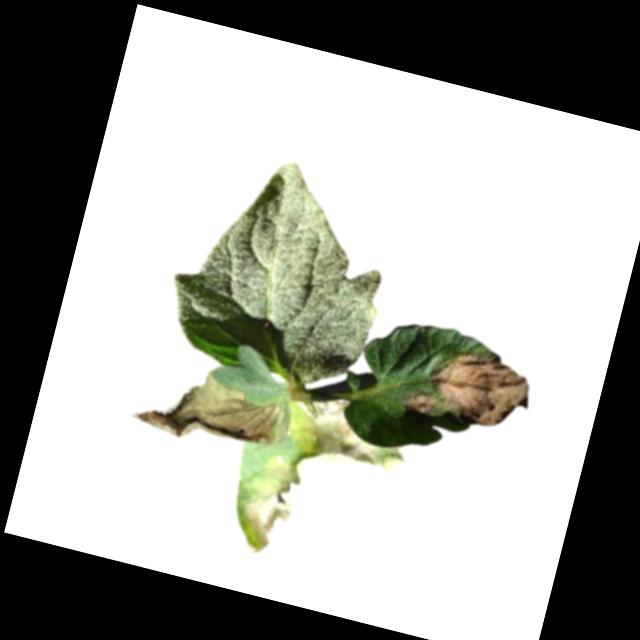Late_blight: (232, 384, 413, 579), (125, 353, 297, 464), (402, 337, 539, 437)
healthy: (155, 138, 410, 400)
